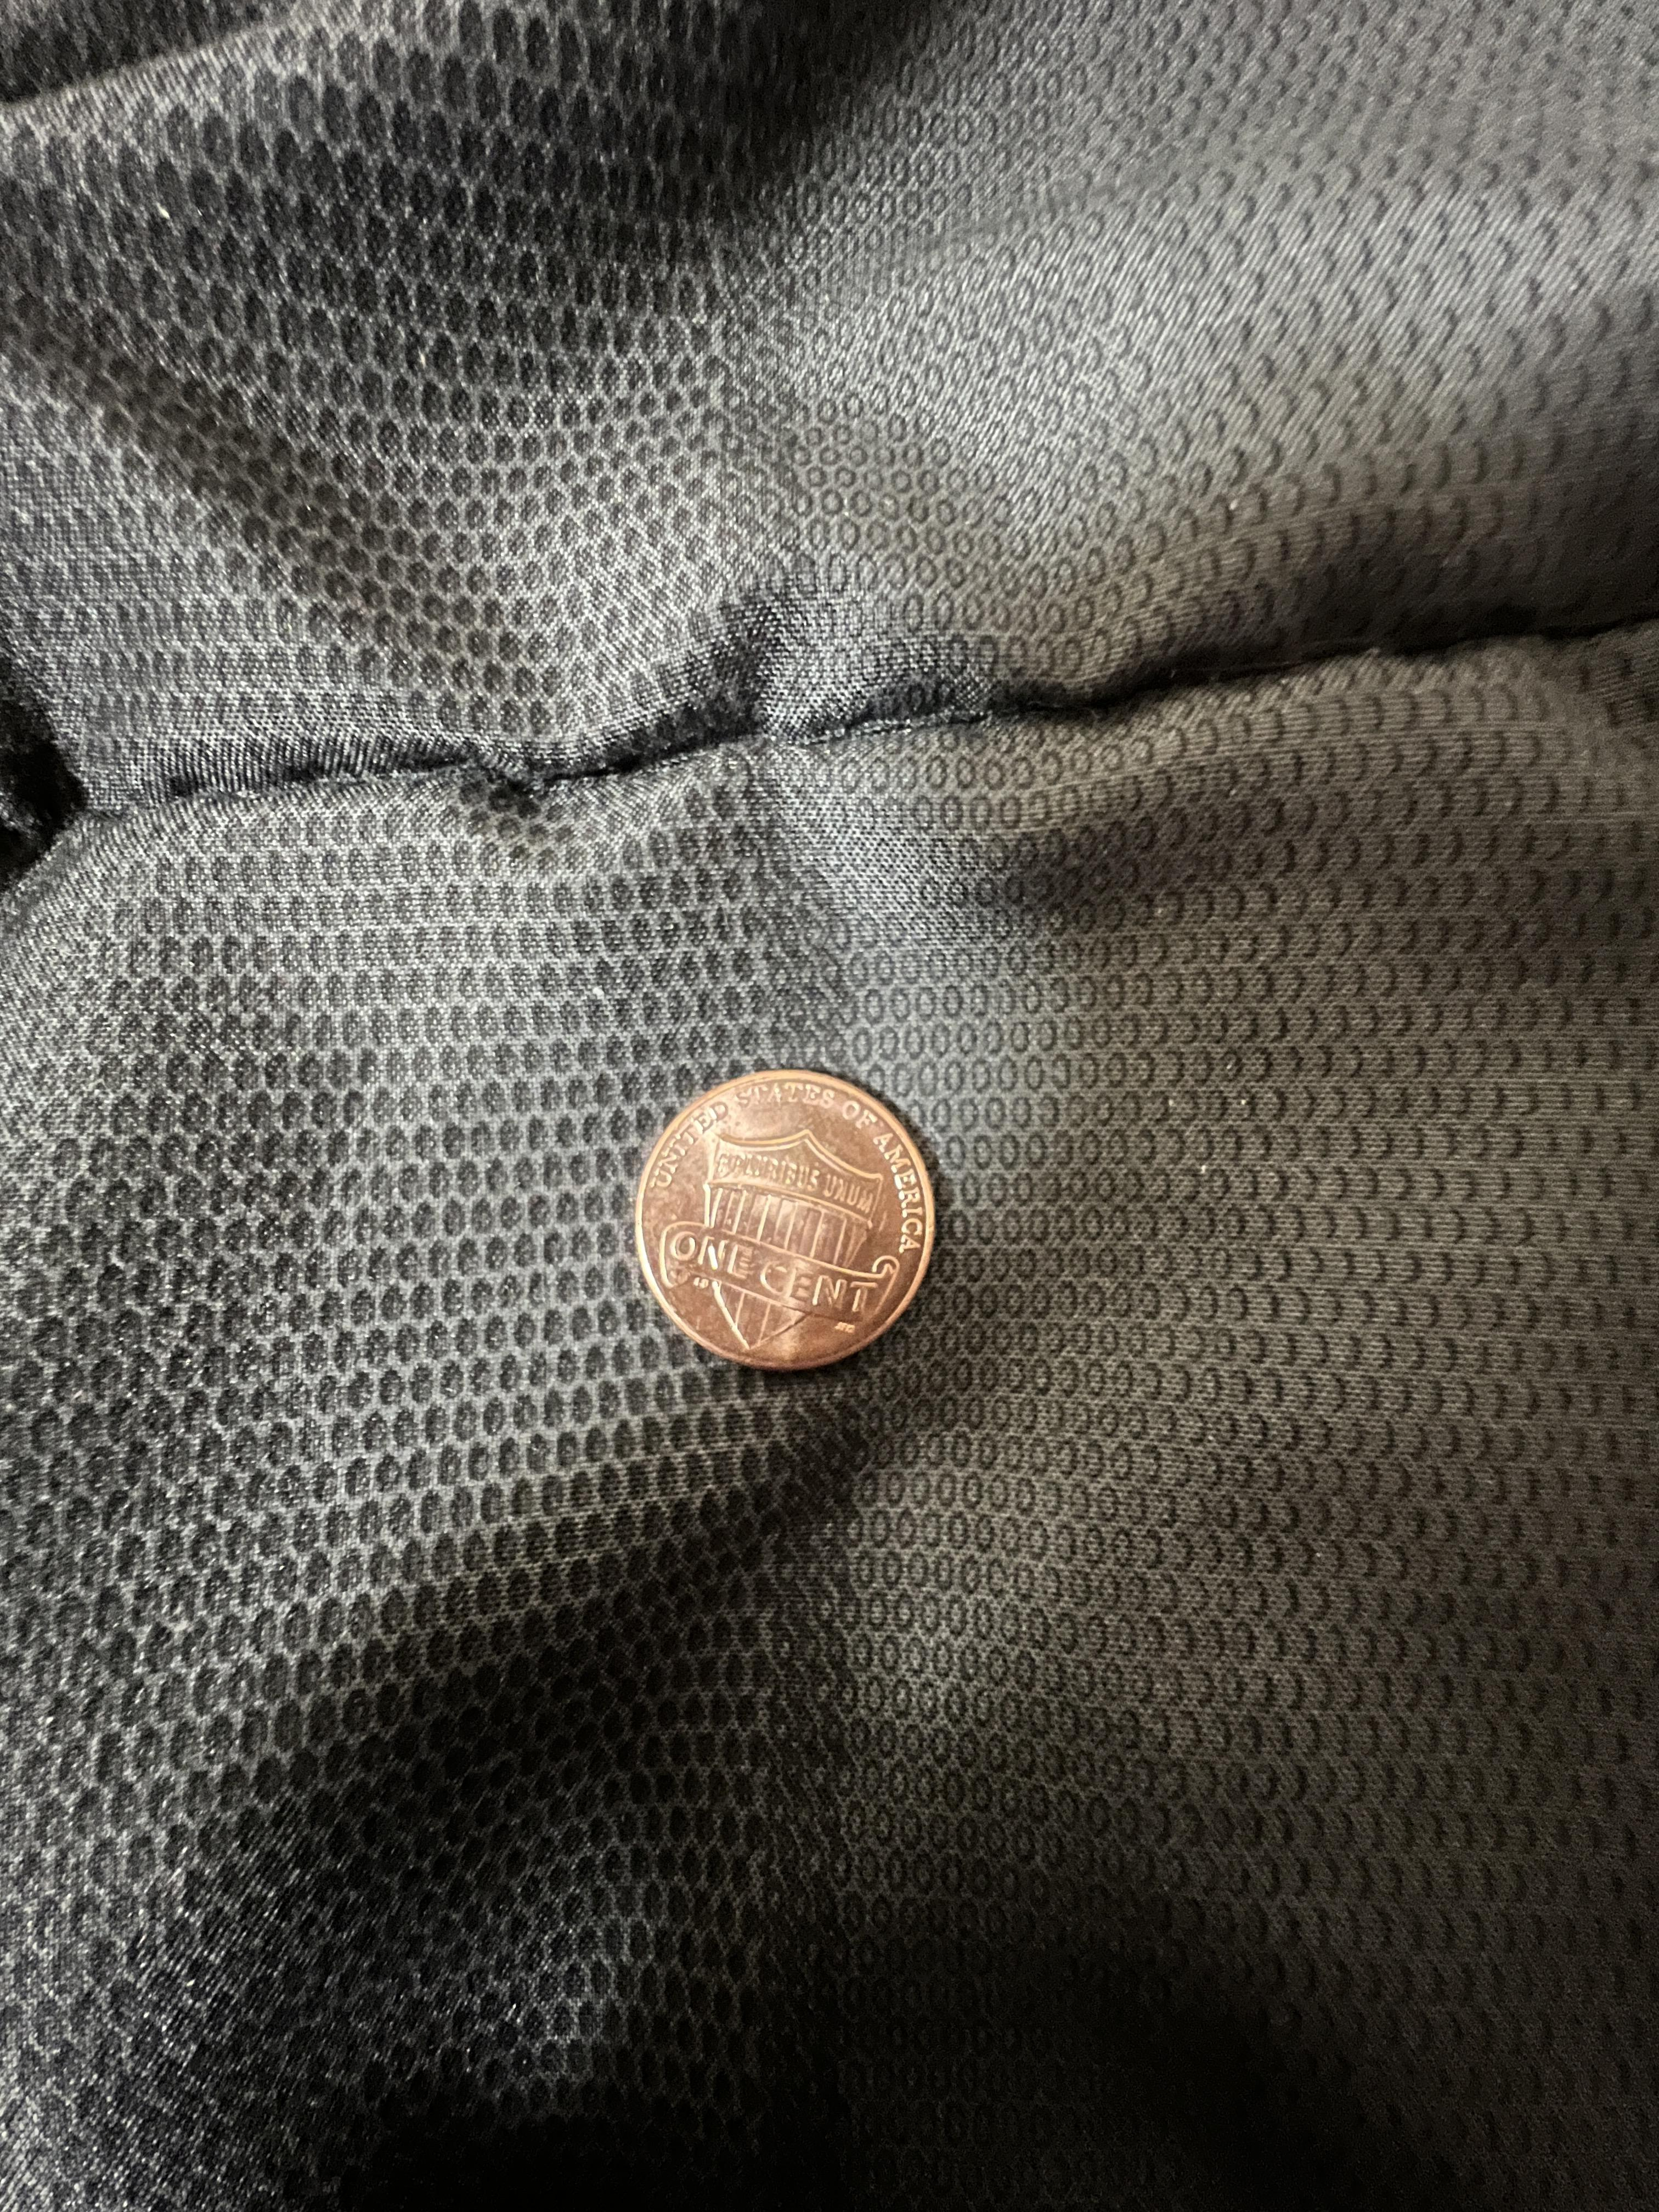Penny: (624, 1059, 960, 1388)
